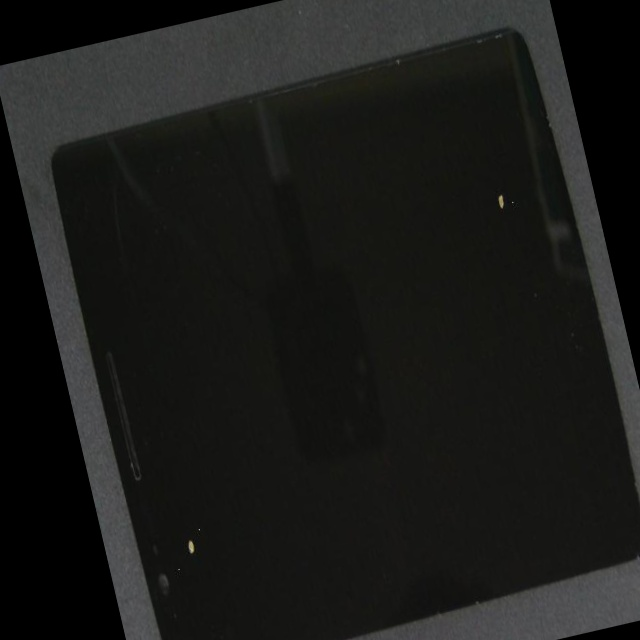stain: (244, 19, 607, 319), (84, 312, 236, 640)
